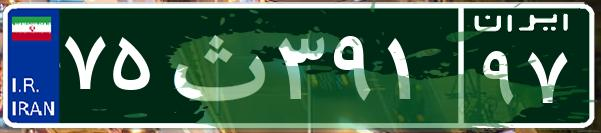1: (385, 28, 445, 110)
3: (273, 28, 330, 110)
5: (110, 28, 158, 105)
7: (57, 26, 110, 107), (525, 38, 570, 115)
9: (330, 28, 385, 110), (475, 38, 525, 113)
ث: (158, 15, 273, 115)
